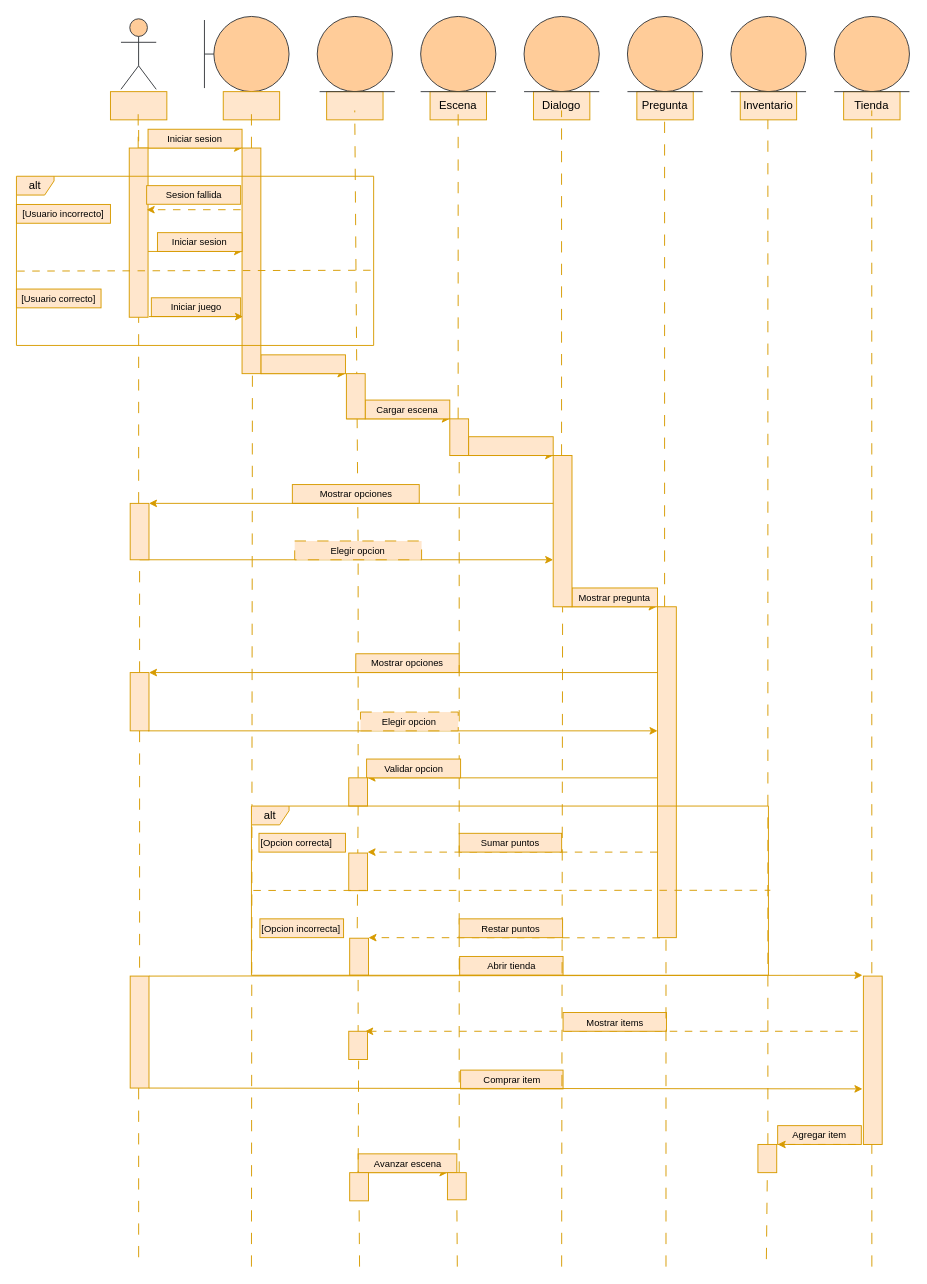
Image size: 927x1284. Some labels were removed from this diagram. The shapes that lost their labels are listed below. From the top down, each one's centre as x and y in pixels, then its label:
(x=138, y=105): Usuario
(x=251, y=105): Juego
(x=354, y=105): Partida
(x=302, y=364): Crear partida
(x=510, y=446): Mostrar dialogo
